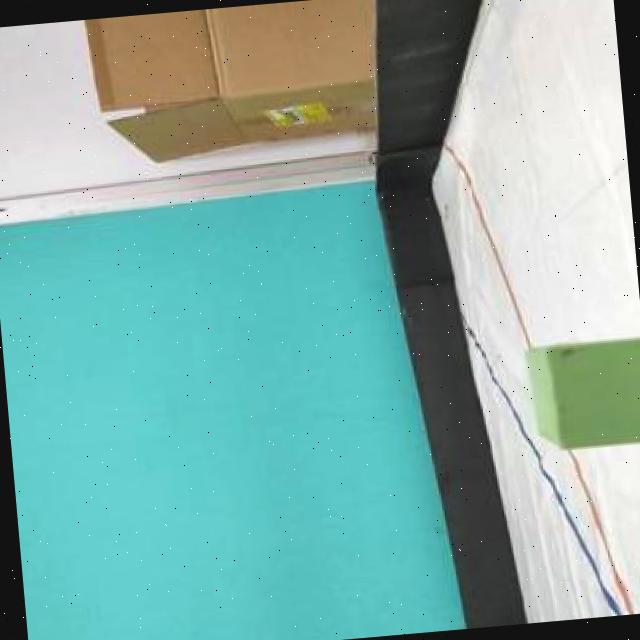greenbox: (522, 333, 640, 453)
